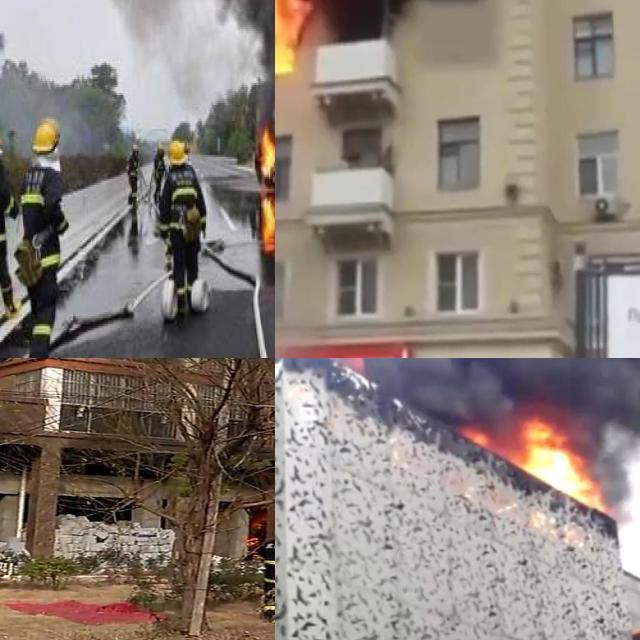fire: (514, 424, 608, 509), (256, 122, 275, 255)
smoke: (308, 358, 640, 422), (71, 0, 275, 96), (307, 0, 477, 39), (0, 77, 88, 149)
